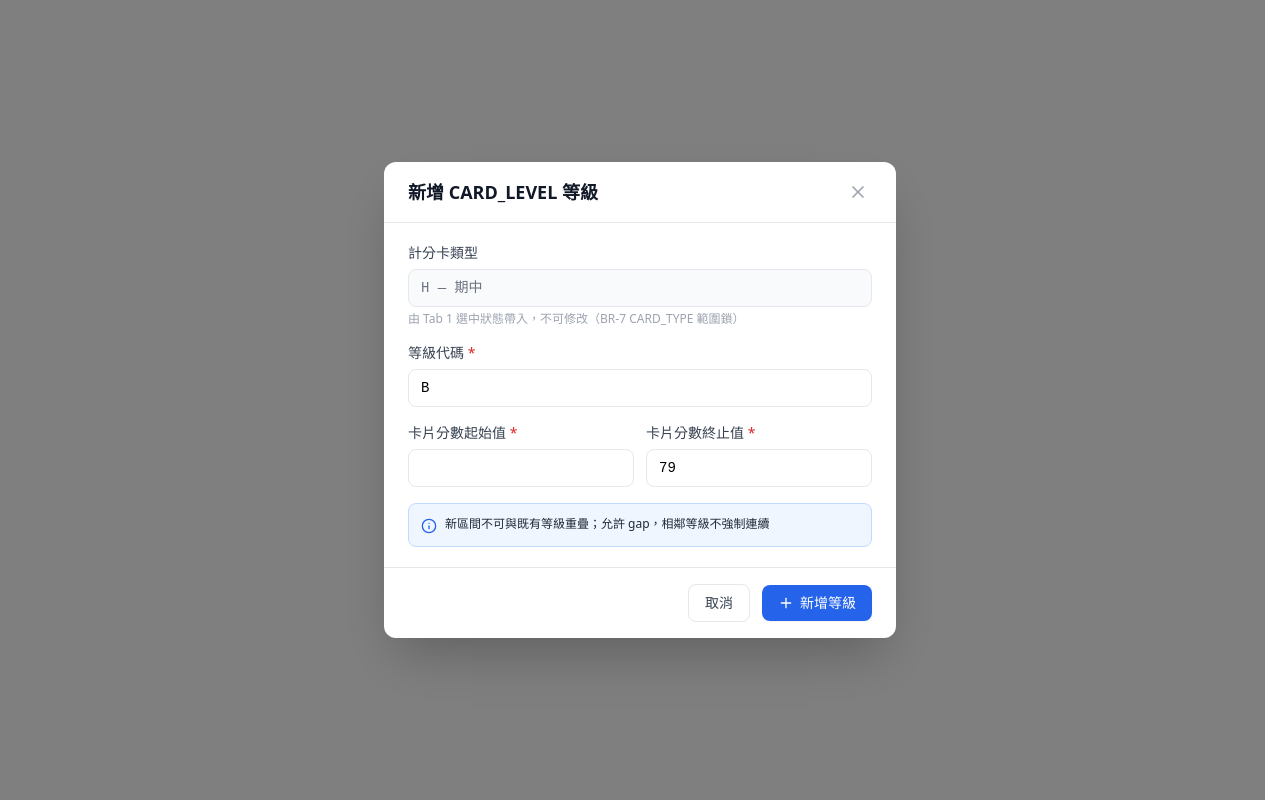
Test case: CreateCardLevelModal — F055 v1.5 › TS-F055-M05：scoreS / scoreE 空 → inline 錯誤，不打 API
# auto-suggest 下 scoreS 為空
Click the button with test id "level-modal-submit" at (817, 603), box [762,585,872,621]
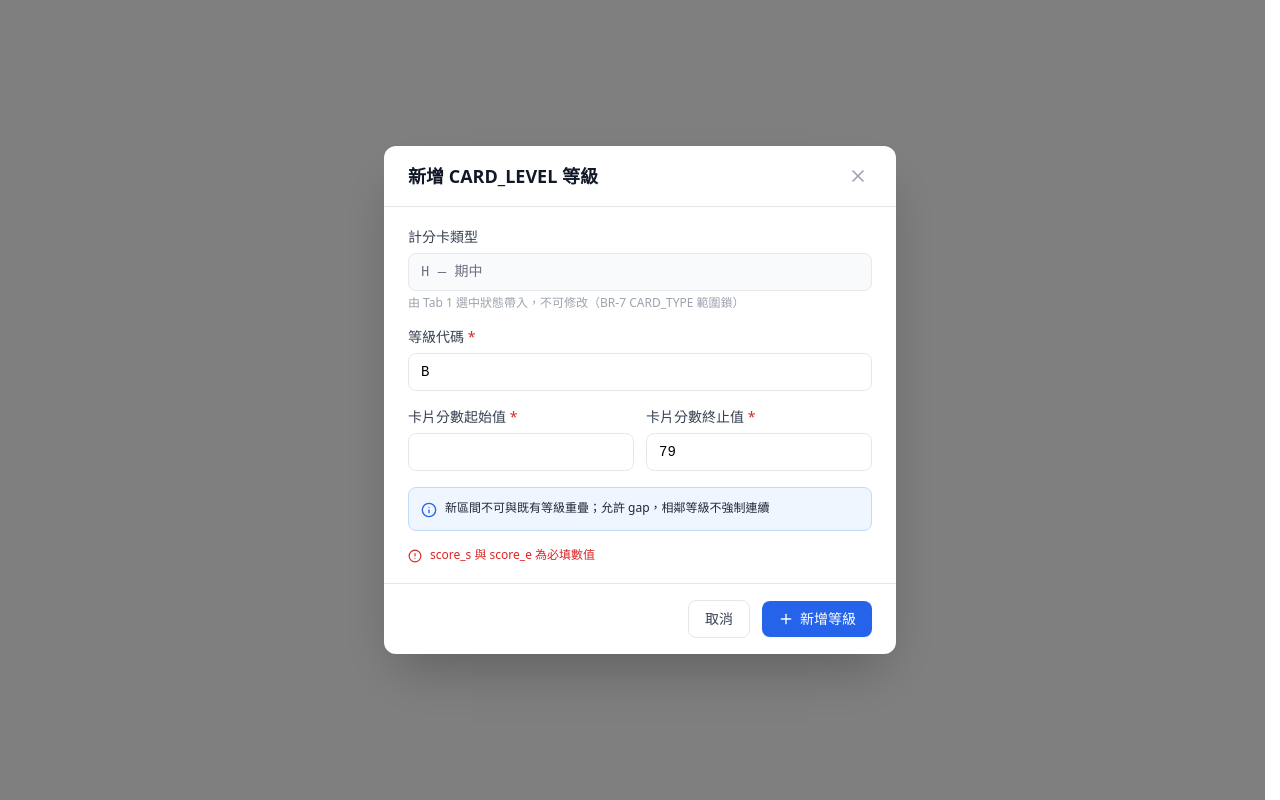
expect the message "score_s 與 score_e 為必填數值" is shown: met, box [408,546,595,563]
